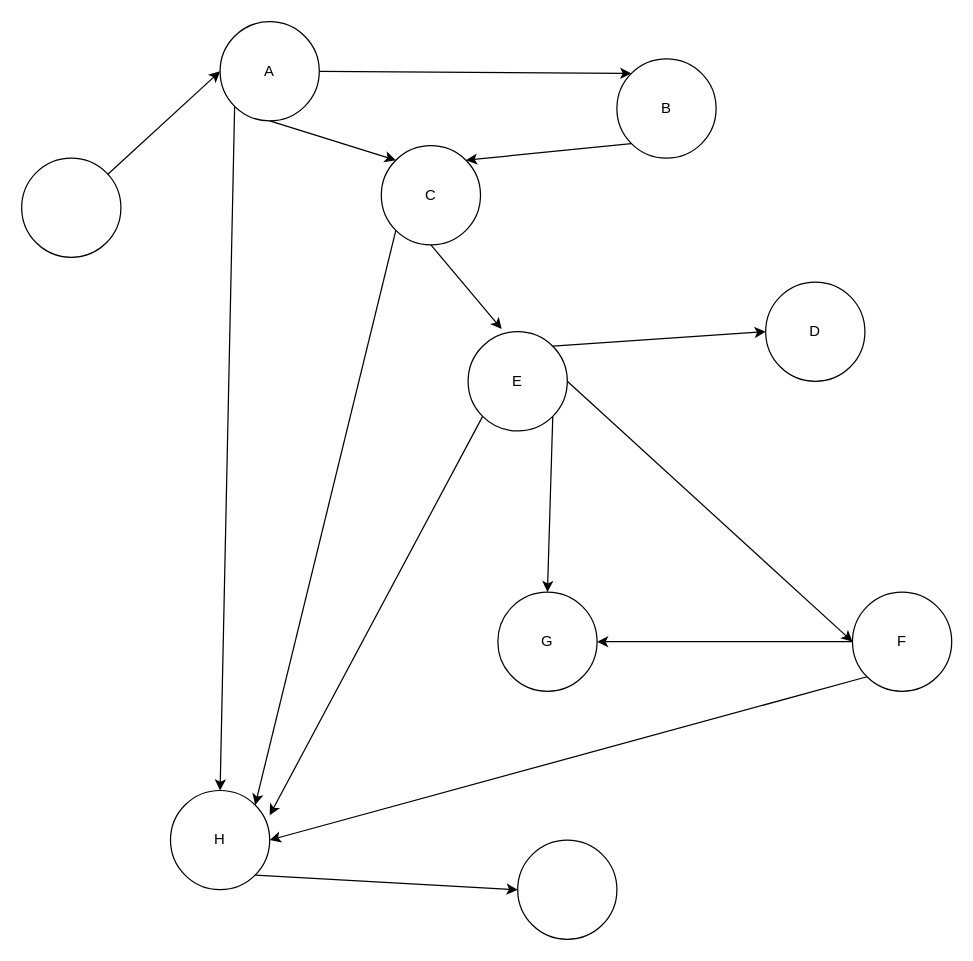
The diagram is 973 pixels wide and 961 high, and some of its shapes have lost their labels. Here are the shapes that lost their labels. From the top down, the centre of each, then its label:
the point at 70,207: START
the point at 566,889: END
